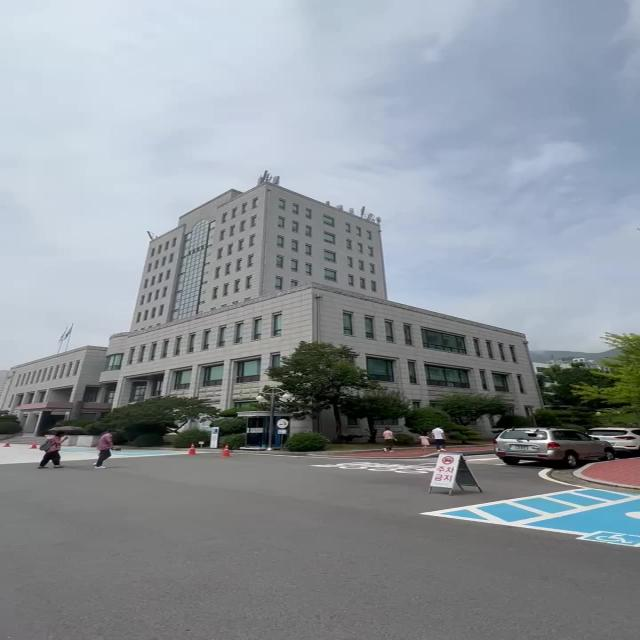building: (105, 161, 395, 354)
